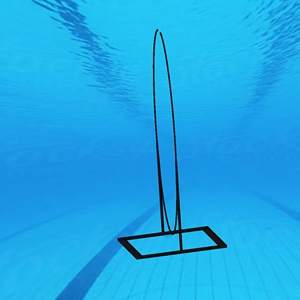circle: (116, 29, 227, 266)
